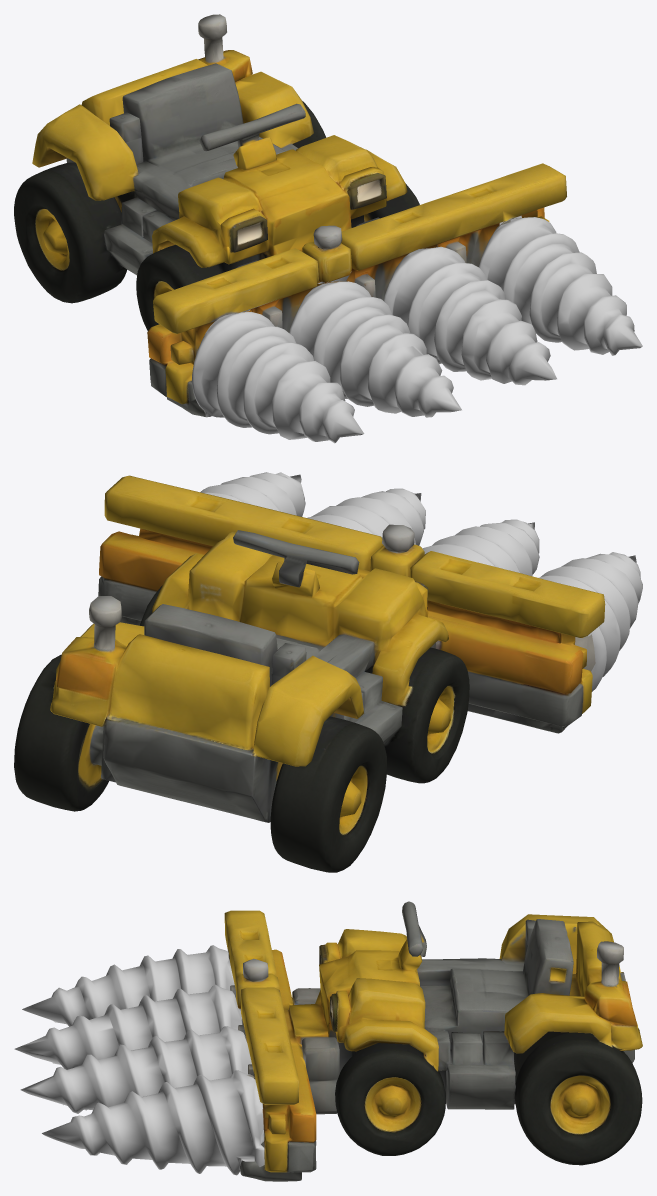
File: Vehicle.fbx
3 renders of one model, top to bottom at view 1: azimuth 30°, elevation 25°; view 2: azimuth 150°, elevation 25°; view 3: azimuth 270°, elevation 25°, orthographic. The views are drawn at different scales.
Visible parts, largest first — view 1: tripo_part_5, tripo_part_1, tripo_part_0, tripo_part_new_0, tripo_part_4; view 2: tripo_part_5, tripo_part_1, tripo_part_new_0, tripo_part_0, tripo_part_4; view 3: tripo_part_5, tripo_part_4, tripo_part_0, tripo_part_new_0, tripo_part_1.
Part boxes in pixels (<box>): tripo_part_5: <box>14,14,566,416</box>; tripo_part_1: <box>192,301,364,443</box>; tripo_part_0: <box>384,246,556,385</box>; tripo_part_new_0: <box>289,271,461,417</box>; tripo_part_4: <box>479,215,642,355</box>; tripo_part_5: <box>14,475,605,872</box>; tripo_part_1: <box>538,552,642,691</box>; tripo_part_new_0: <box>422,519,539,576</box>; tripo_part_0: <box>307,488,425,545</box>; tripo_part_4: <box>200,472,305,516</box>; tripo_part_5: <box>224,901,642,1181</box>; tripo_part_4: <box>42,1070,264,1175</box>; tripo_part_0: <box>20,1026,251,1113</box>; tripo_part_new_0: <box>14,984,241,1069</box>; tripo_part_1: <box>22,945,234,1026</box>.
Bounding box in the file's own units: 0.7065 × 0.3493 × 0.9816.
